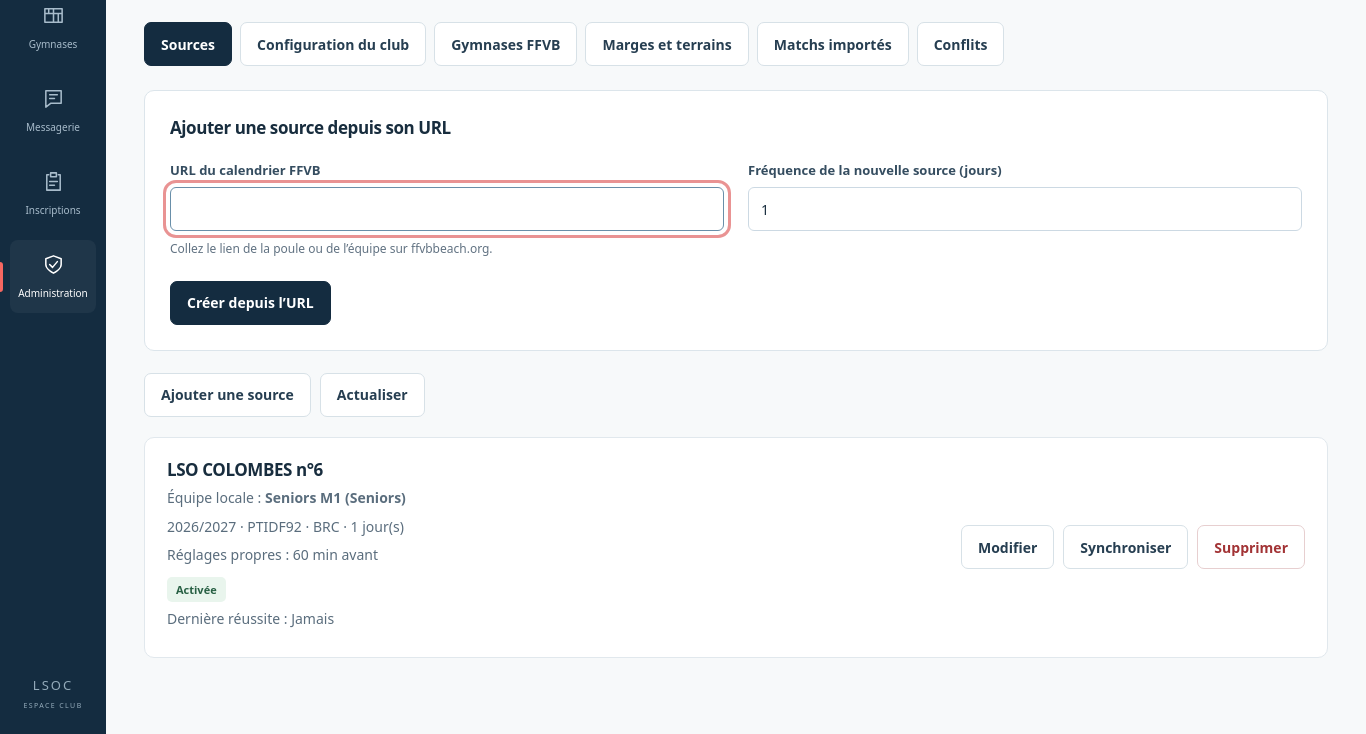
Test: règle les terrains et marges d’une source, vides pour suivre la configuration par défaut
(page scrolled)
Expected: the text "Réglages propres : 60 min avant" is shown, left=167, top=544, right=406, bottom=566
Expected: the text "Seniors M1 (Seniors)" is shown, left=265, top=488, right=406, bottom=507
Click the button "Modifier": (1008, 548) left=961, top=526, right=1054, bottom=570
(page scrolled)
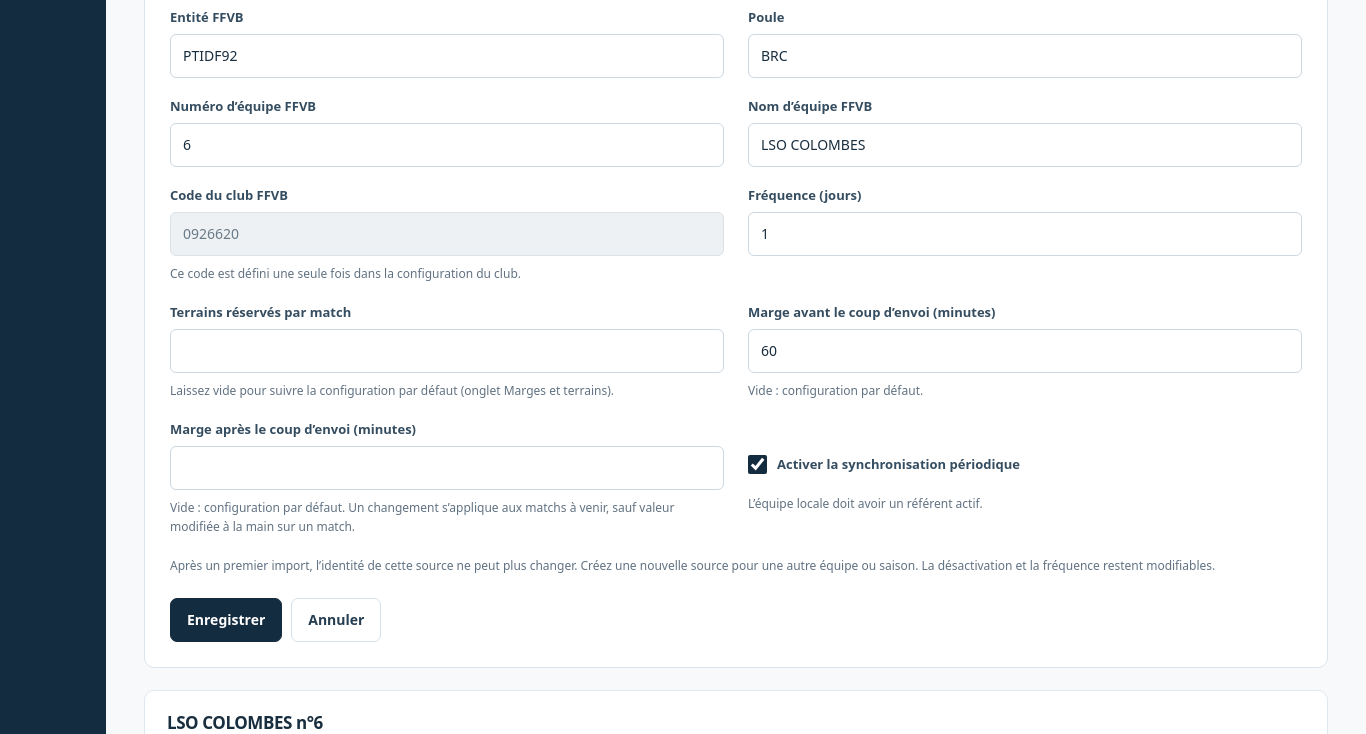
Result: the number field labelled "Marge avant le coup d’envoi (minutes)" holds "60" at left=748, top=329, right=1302, bottom=373
In the number field labelled "Terrains réservés par match": (447, 351) left=170, top=329, right=724, bottom=373, type "2"
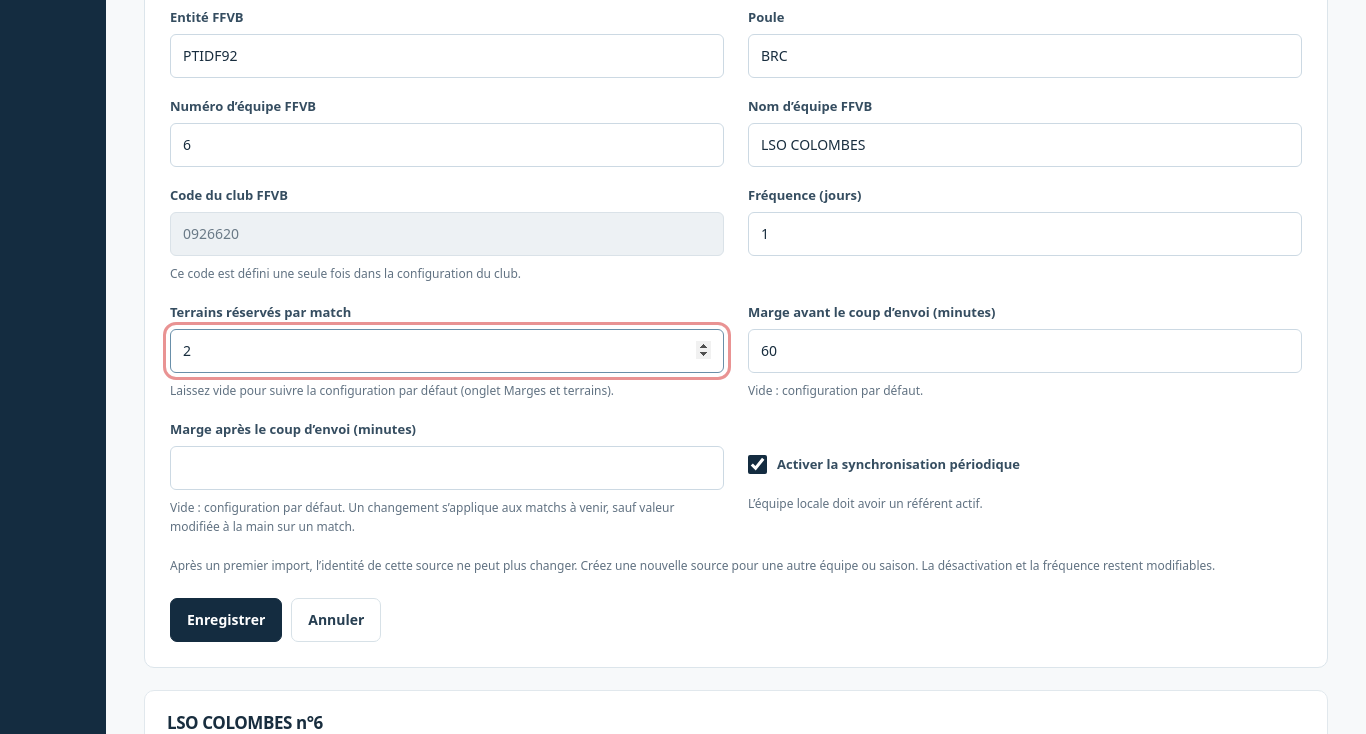
Clear the number field labelled "Marge avant le coup d’envoi (minutes)": (1025, 351) left=748, top=329, right=1302, bottom=373
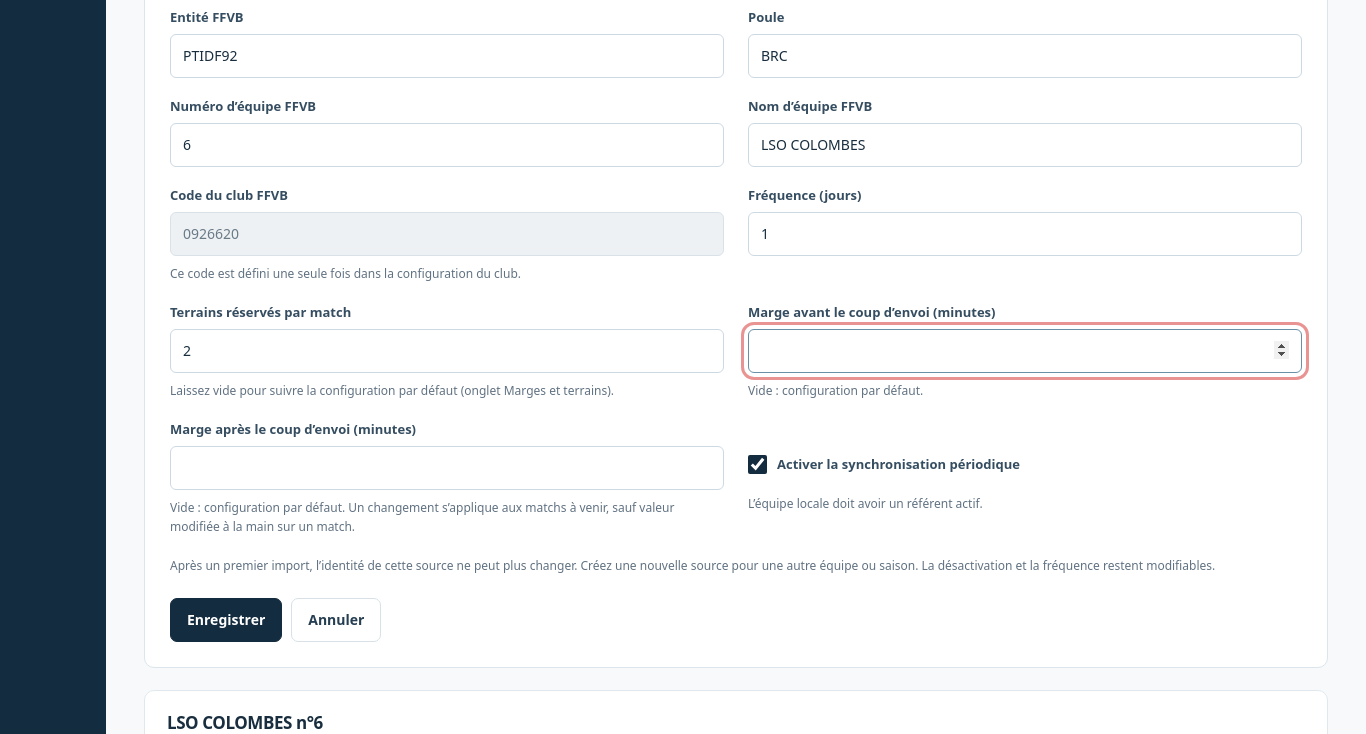
Click the button "Enregistrer": (226, 620) left=170, top=598, right=282, bottom=642
(page scrolled)
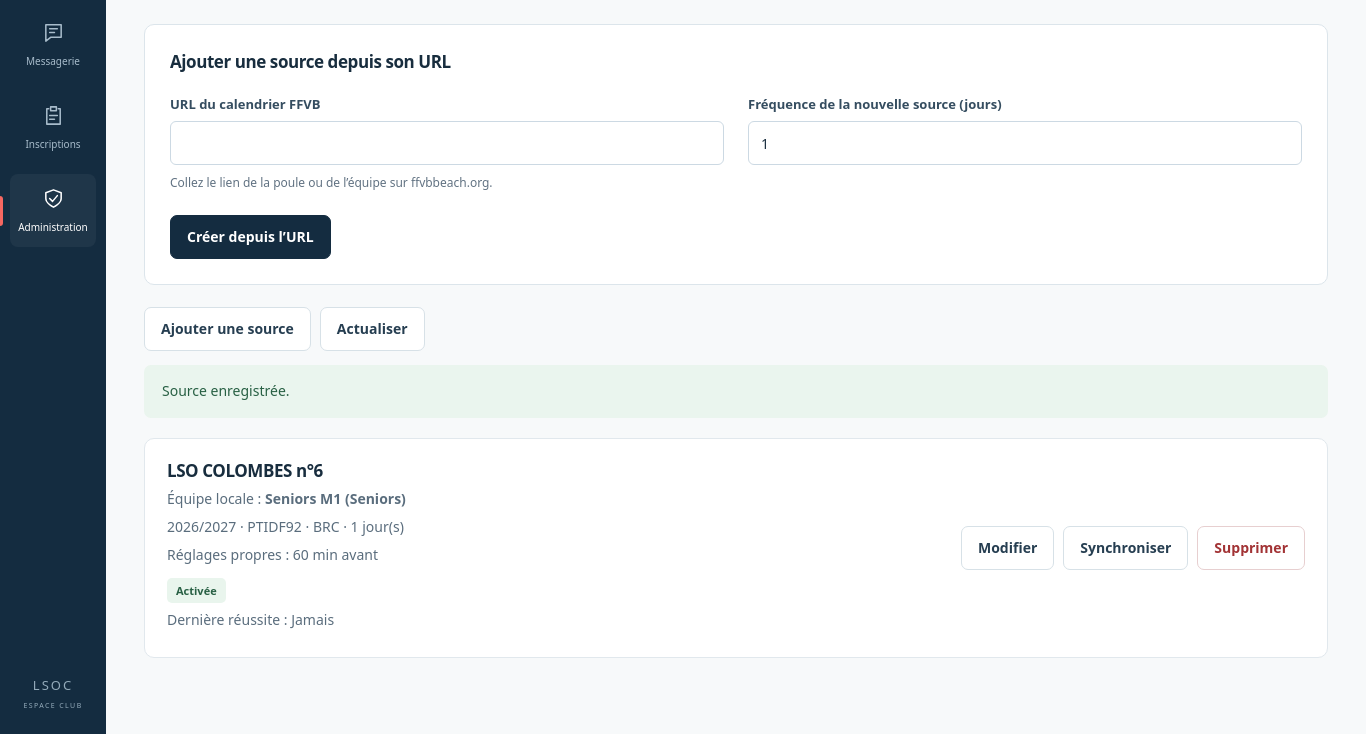
Result: the text "Source enregistrée." is shown at left=144, top=365, right=1328, bottom=418
